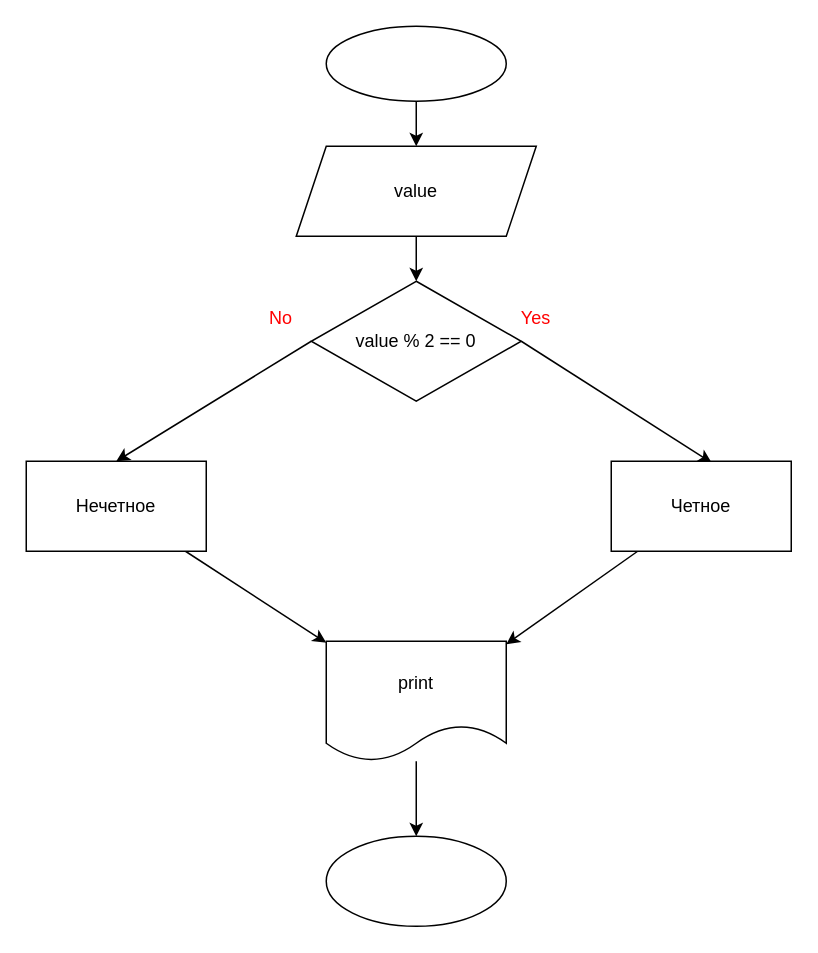
This 818x953 diagram has some shape labels left out. Each missing label, with the centre of its shape:
End: point 415,880
Start: point 415,63
